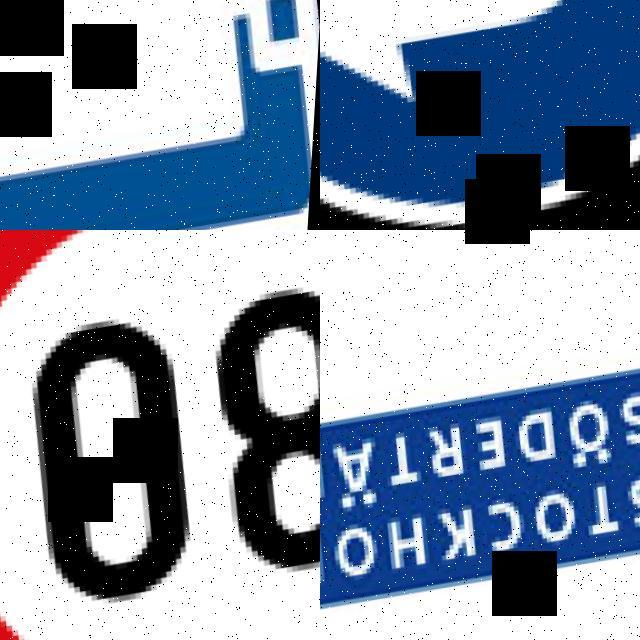5: (320, 359, 640, 640)
69: (0, 0, 320, 230)
Turn right ahead: (320, 0, 640, 230)
speed limit-80: (0, 230, 320, 640)
